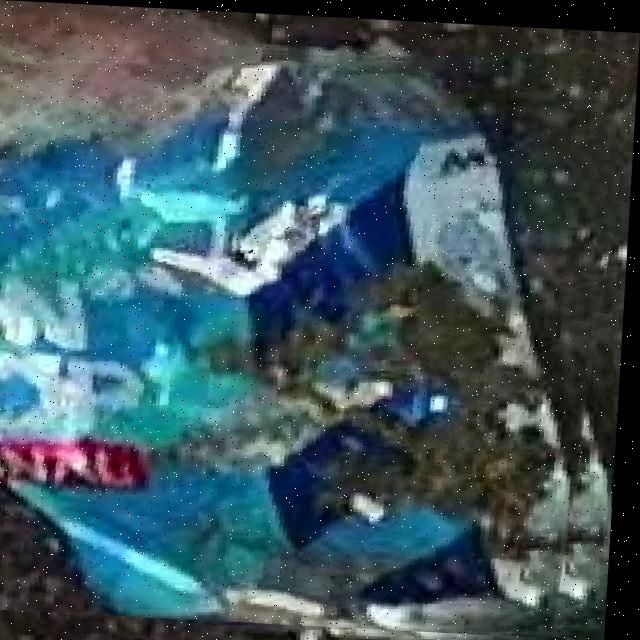can: (0, 57, 592, 626)
